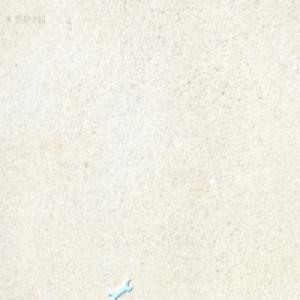Wrench: (108, 276, 133, 299)
